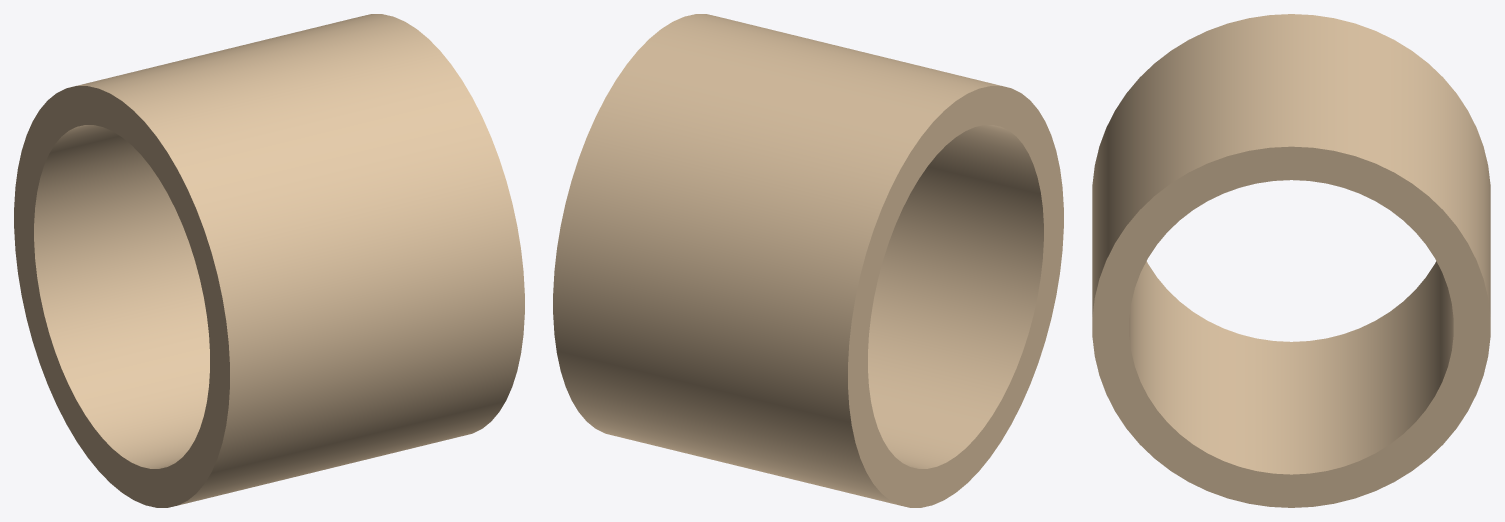
File: ignition-coil-secondary.glb
3 renders of one model, left to right at view 1: azimuth 30°, elevation 25°; view 2: azimuth 150°, elevation 25°; view 3: azimuth 270°, elevation 25°, orthographic. The views are drawn at different scales.
Parts seen in each view (by area): view 1: world; view 2: world; view 3: world.
Boxes of the visible parts, bbox=[...] form: world: bbox=[14, 14, 524, 507]; world: bbox=[553, 14, 1063, 507]; world: bbox=[1092, 14, 1490, 507].
Size of the model in its own units: 0.04 by 0.0508 by 0.0507.
